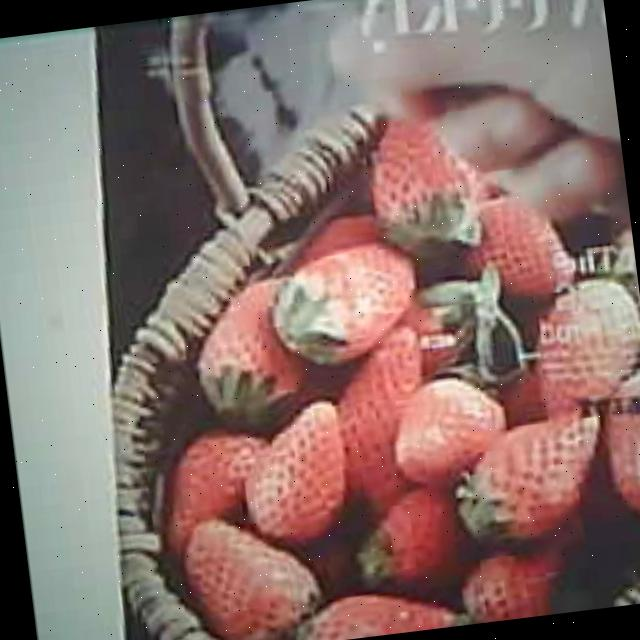strawberry: (449, 403, 606, 543), (268, 240, 417, 366), (182, 508, 323, 640), (188, 267, 305, 425), (238, 398, 351, 544), (362, 110, 479, 246), (527, 273, 640, 413)
